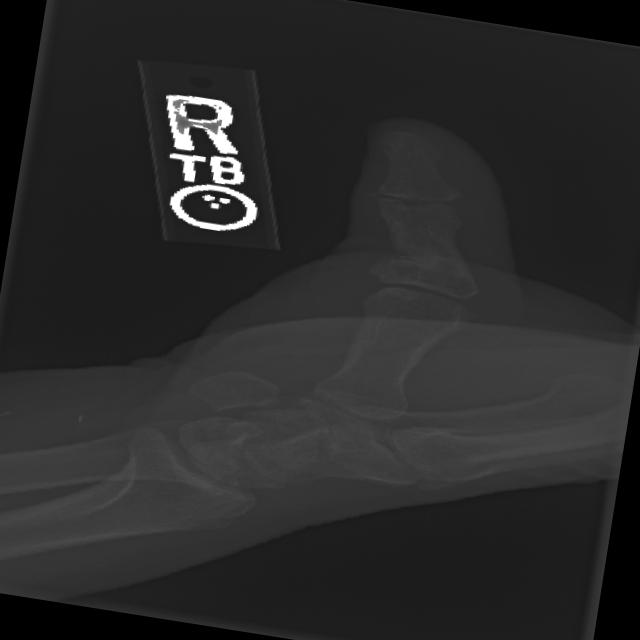fingers positive: (376, 233, 497, 295), (375, 131, 459, 174)
